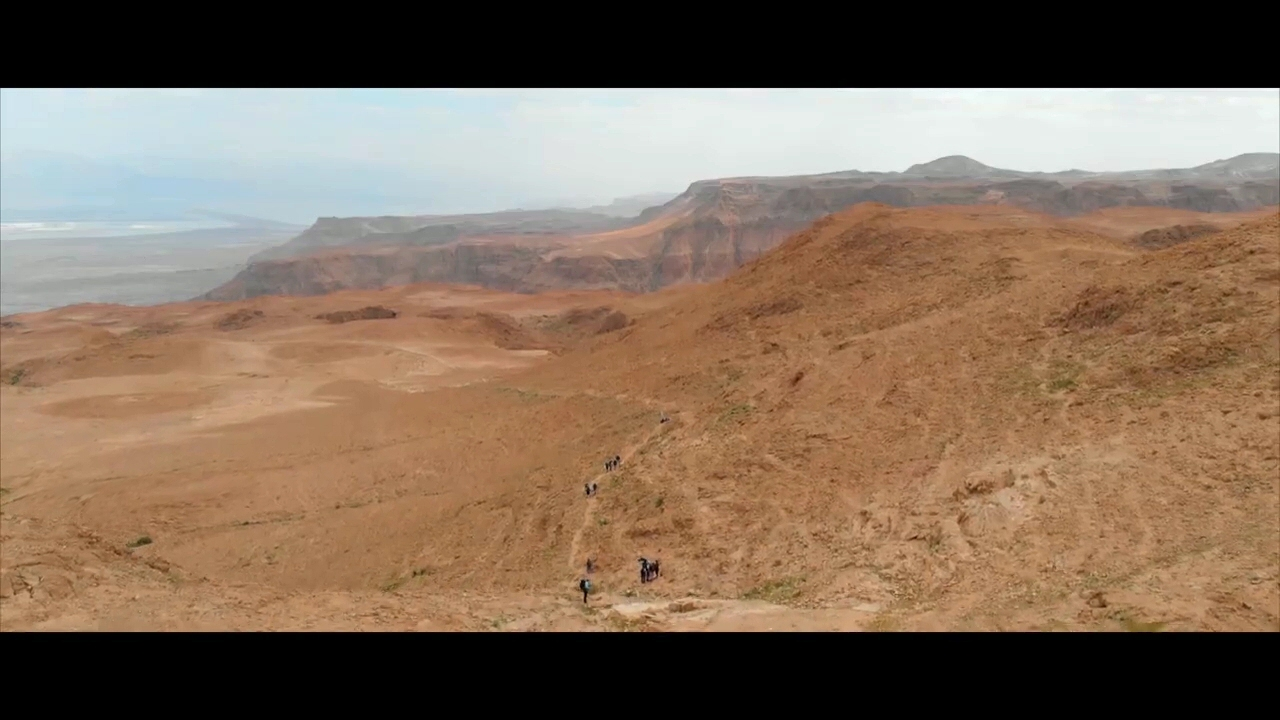insan: (580, 577, 593, 605), (585, 556, 594, 574), (639, 567, 646, 584), (582, 486, 591, 498)
